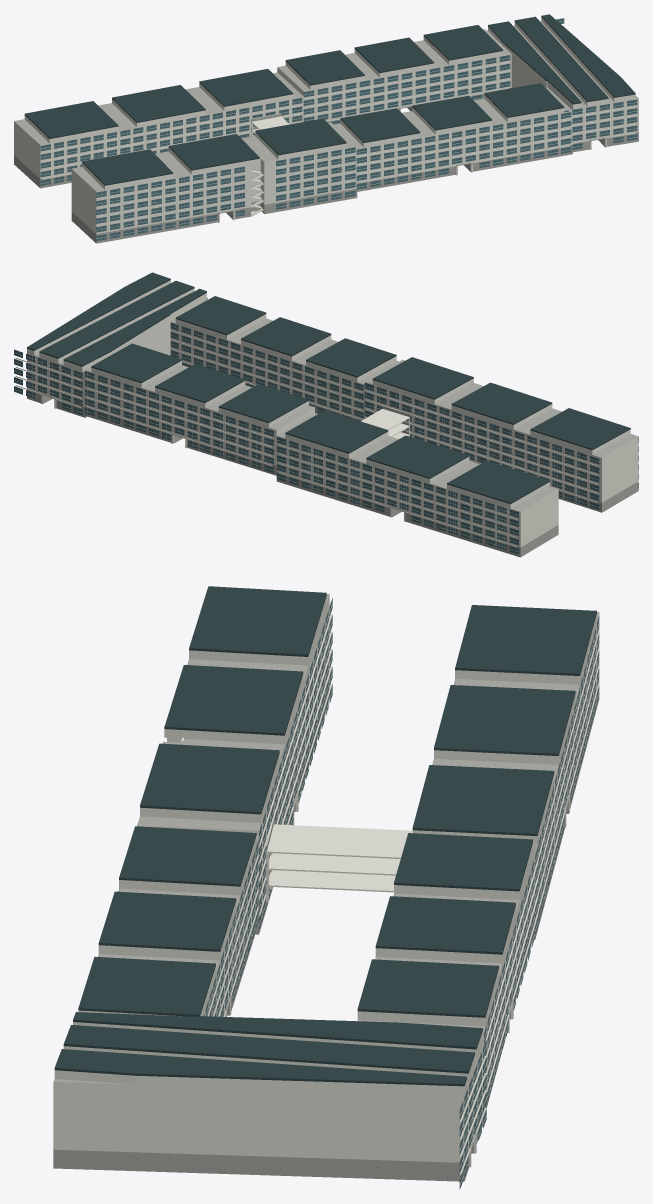
Rendered from chunk-p0-p3.glb.
3 views of the same model, one above another, from view 1: azimuth 30°, elevation 25°; view 2: azimuth 150°, elevation 25°; view 3: azimuth 270°, elevation 25° (orthographic). The views are drawn at different scales.
Parts seen in each view (by area): view 1: chunk-p0-p3; view 2: chunk-p0-p3; view 3: chunk-p0-p3.
Part boxes in pixels (x1,y1,x2,y2): chunk-p0-p3: (14,14,638,243); chunk-p0-p3: (14,272,638,557); chunk-p0-p3: (53,586,599,1189).
Bounding box in the file's own units: 224 × 23.78 × 99.9.
Materials: 5 (1 with a texture image).
